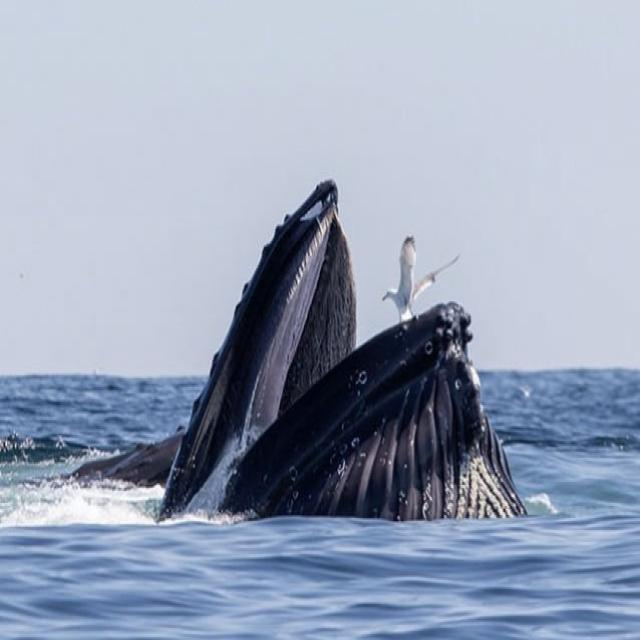whale: (77, 181, 525, 520)
